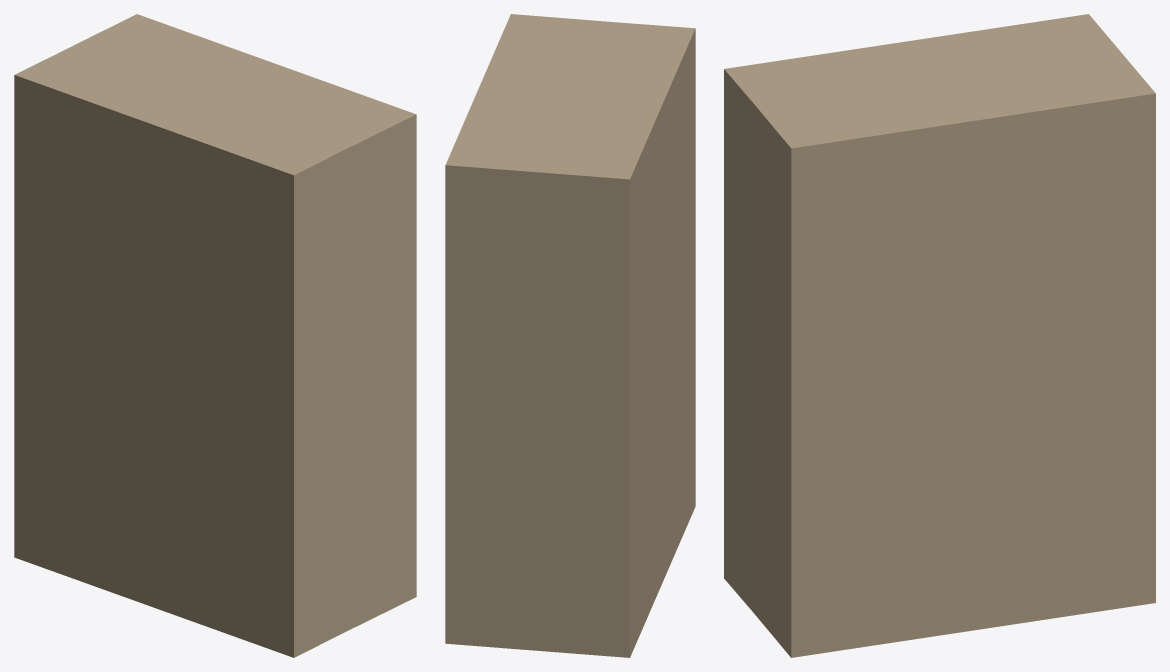
Rendered from bld_107639036.dae.
3 renders of one model, left to right at view 1: azimuth 30°, elevation 25°; view 2: azimuth 150°, elevation 25°; view 3: azimuth 270°, elevation 25°, orthographic. The views are drawn at different scales.
Visible parts, largest first — view 1: bld_107639036; view 2: bld_107639036; view 3: bld_107639036.
Part boxes in pixels (x1,y1,x2,y2): bld_107639036: [14, 14, 416, 657]; bld_107639036: [445, 14, 695, 657]; bld_107639036: [724, 14, 1155, 657].
Size of the model in its own units: 4.53 by 6.15 by 8.
